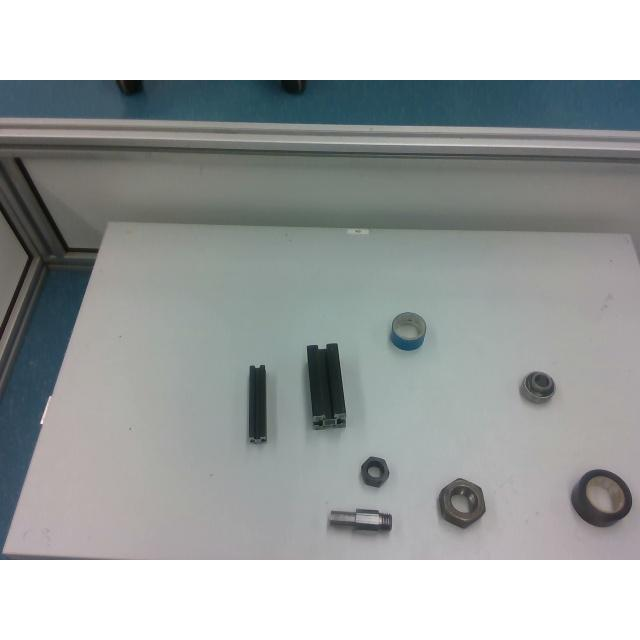Axis2: (328, 508, 392, 530)
Bearing2: (520, 371, 556, 405)
F20_20_B: (247, 364, 266, 441)
M20: (359, 455, 388, 485)
M30: (438, 478, 486, 526)
S40_40_B: (306, 342, 348, 430)
